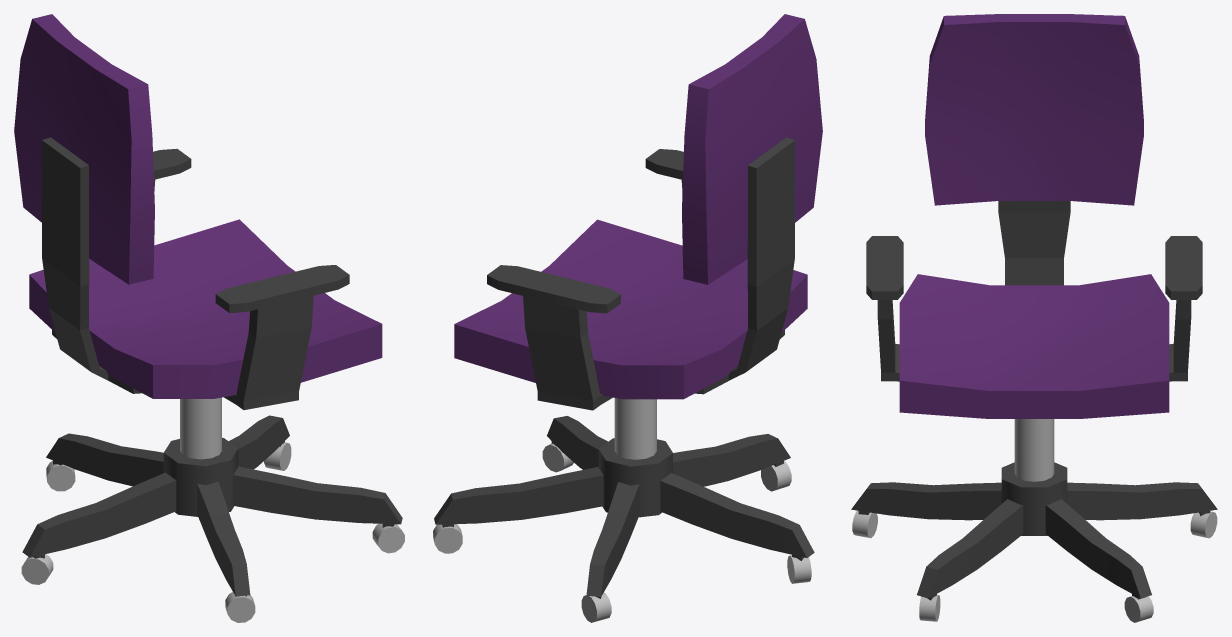
File: ChairModel.FBX
The picture shows the model from 3 angles, left to right: view 1: azimuth 30°, elevation 25°; view 2: azimuth 150°, elevation 25°; view 3: azimuth 270°, elevation 25°; orthographic projection. The views are drawn at different scales.
Parts seen in each view (by area): view 1: Chair; view 2: Chair; view 3: Chair.
Boxes of the visible parts, x1,y1,x2,y2 form: Chair: (14, 14, 404, 622); Chair: (433, 14, 822, 622); Chair: (851, 14, 1217, 622).
Bounding box in the file's own units: 66.54 × 101 × 69.18.
